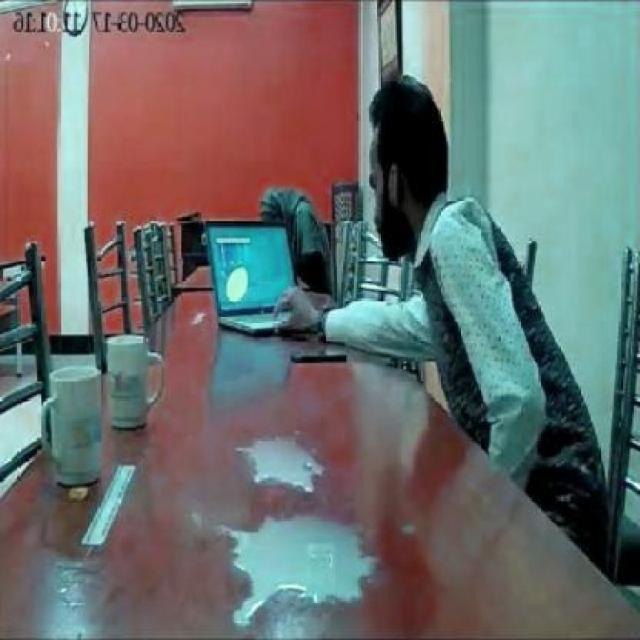spillage: (222, 516, 380, 633), (250, 437, 324, 493)
